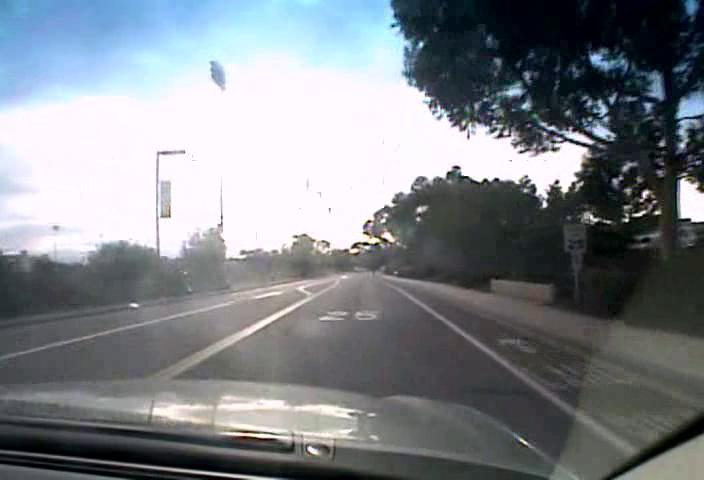speedLimit25: (562, 222, 588, 253)
